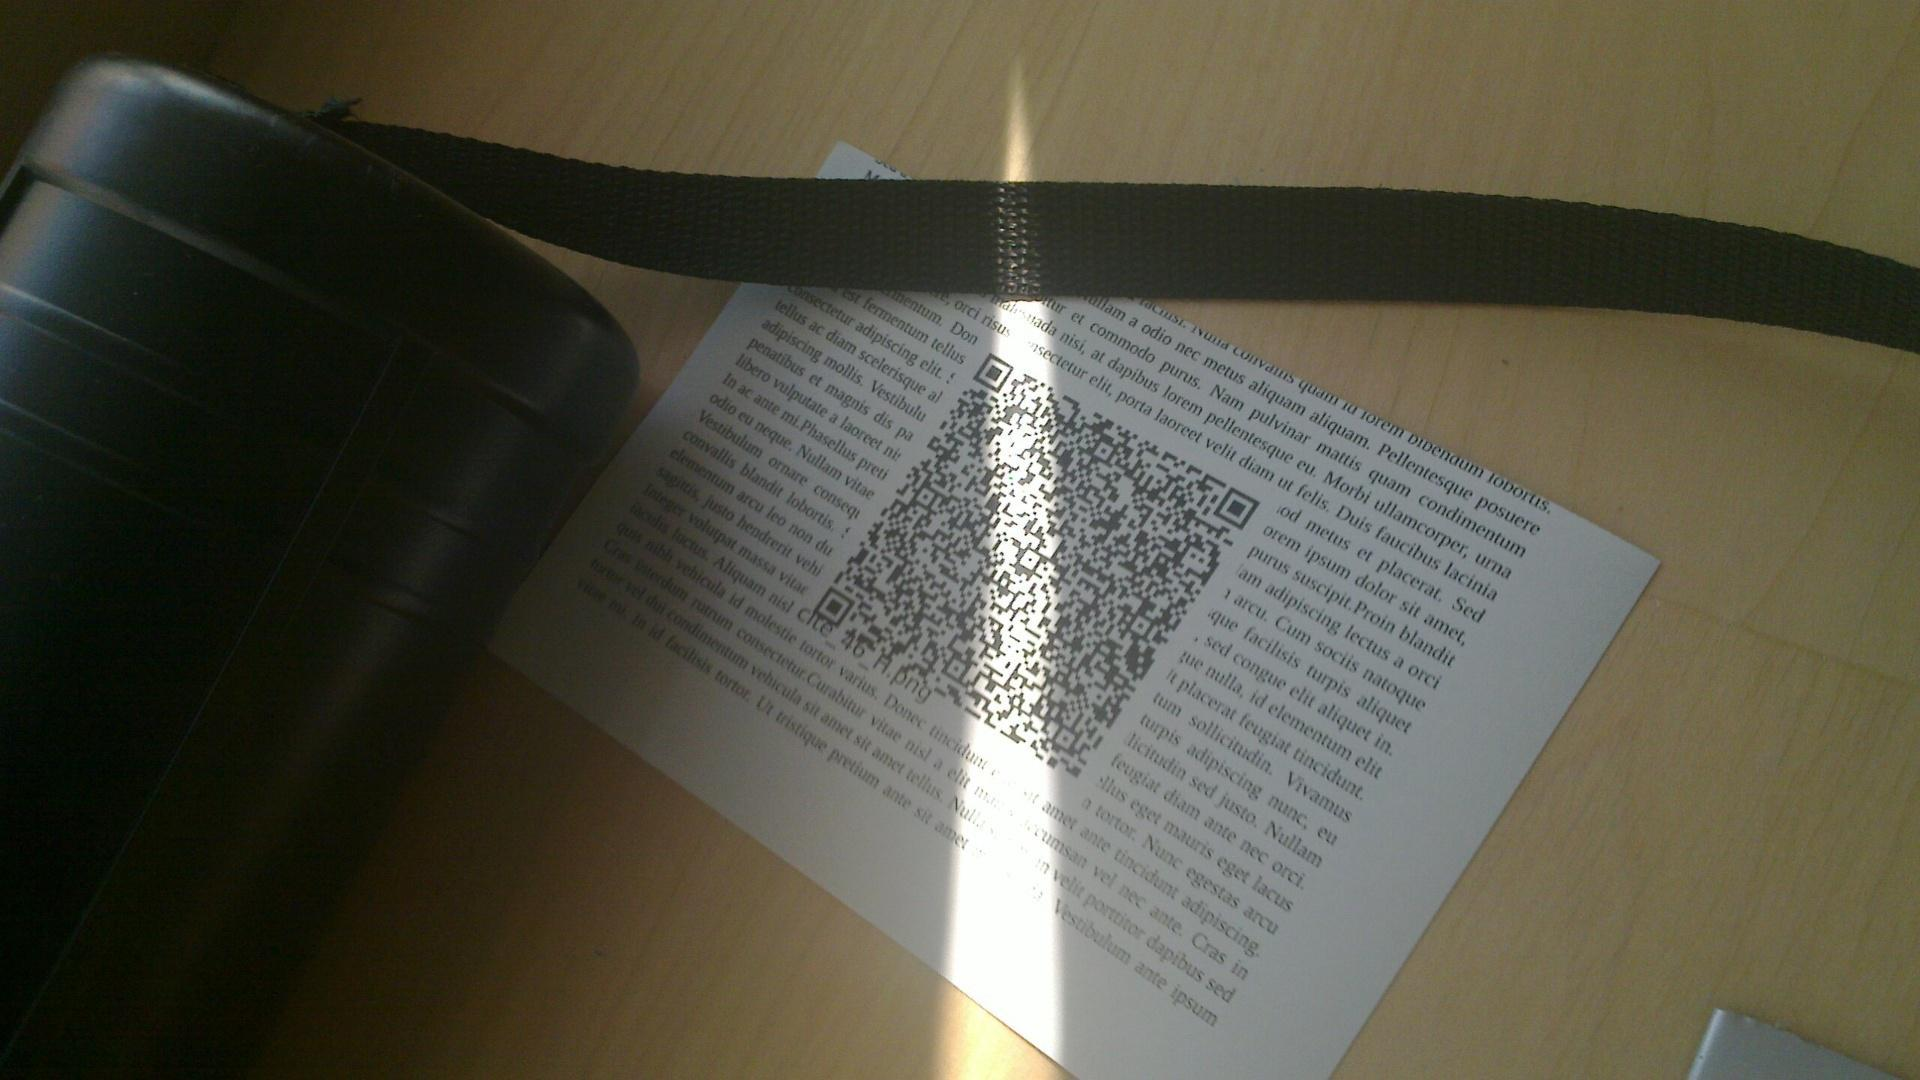Finder pattern: (1212, 487, 1259, 527), (971, 352, 1013, 392), (814, 585, 853, 626)
